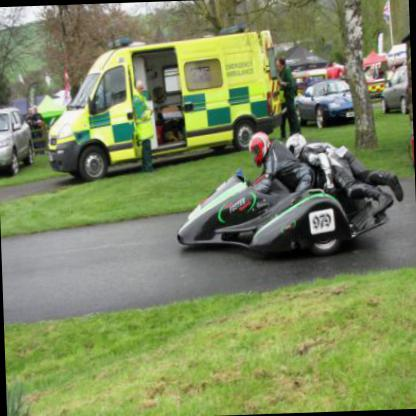truck: (43, 22, 290, 183)
